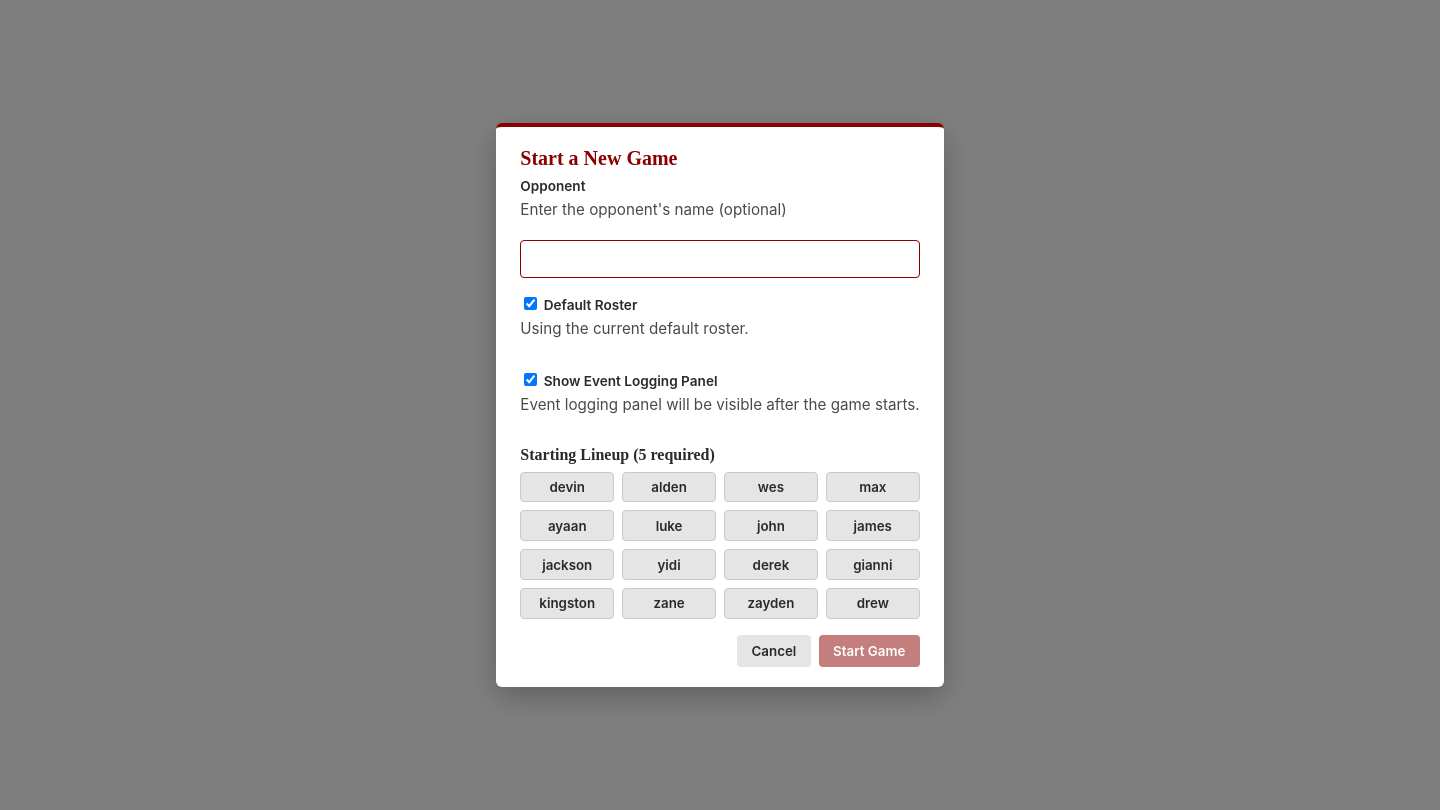
NewGameModal (v2) › unselected player buttons become disabled once 5 are selected
Step 1. Click the button "jackson" → click(567, 565), box x1=520 y1=549 x2=614 y2=580
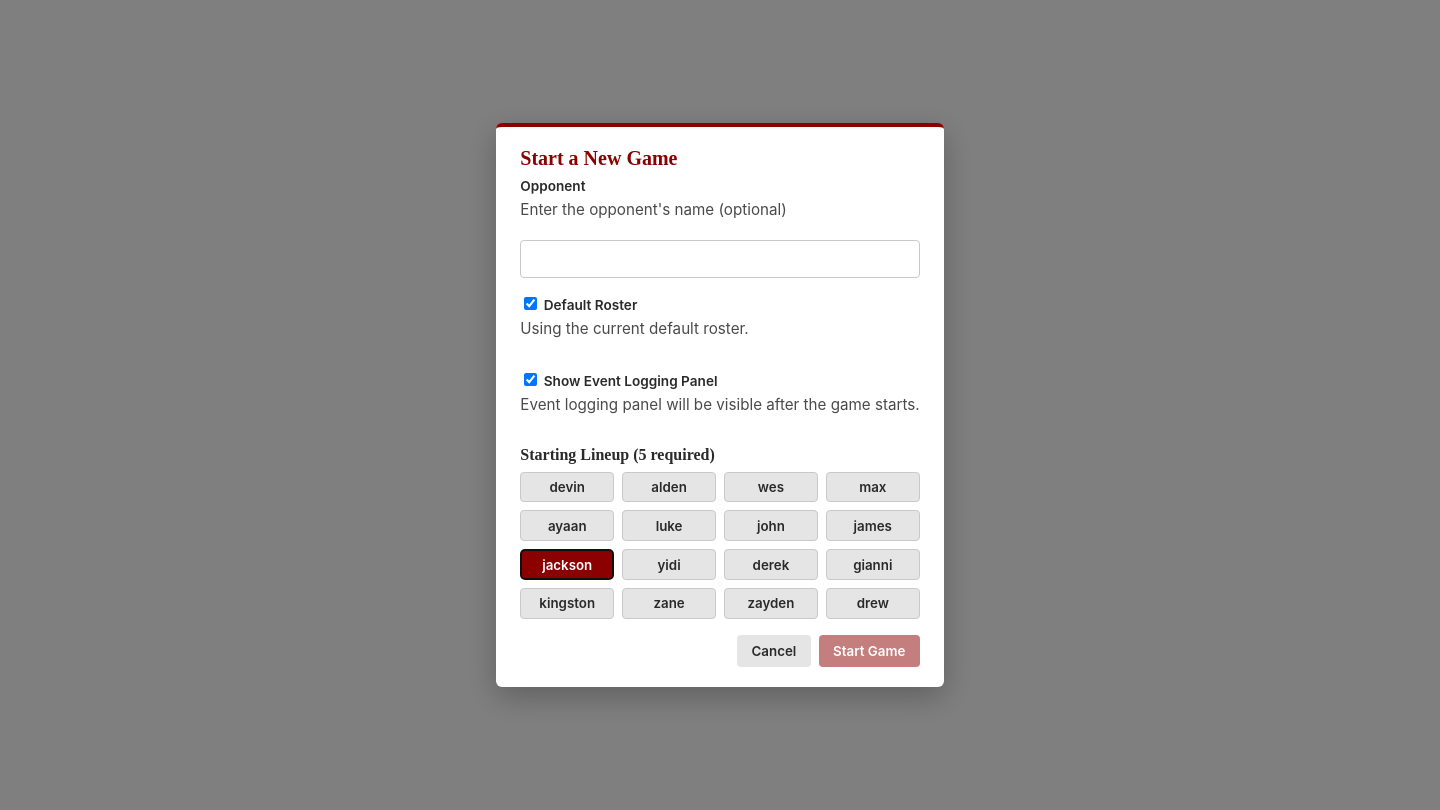
Step 2. Click the button "ayaan" → click(567, 526), box x1=520 y1=510 x2=614 y2=541
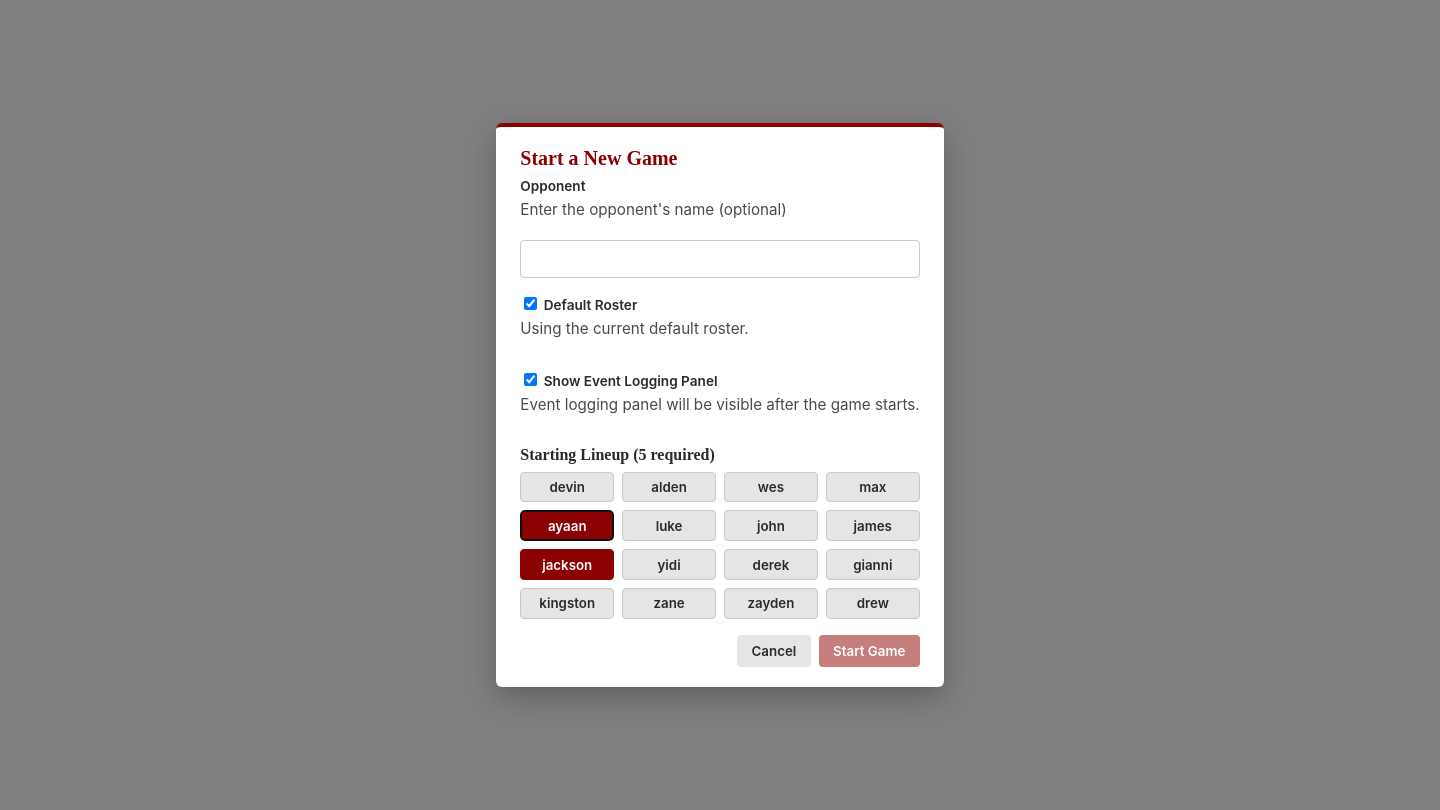
Step 3. Click the button "wes" → click(771, 487), box x1=724 y1=472 x2=818 y2=502
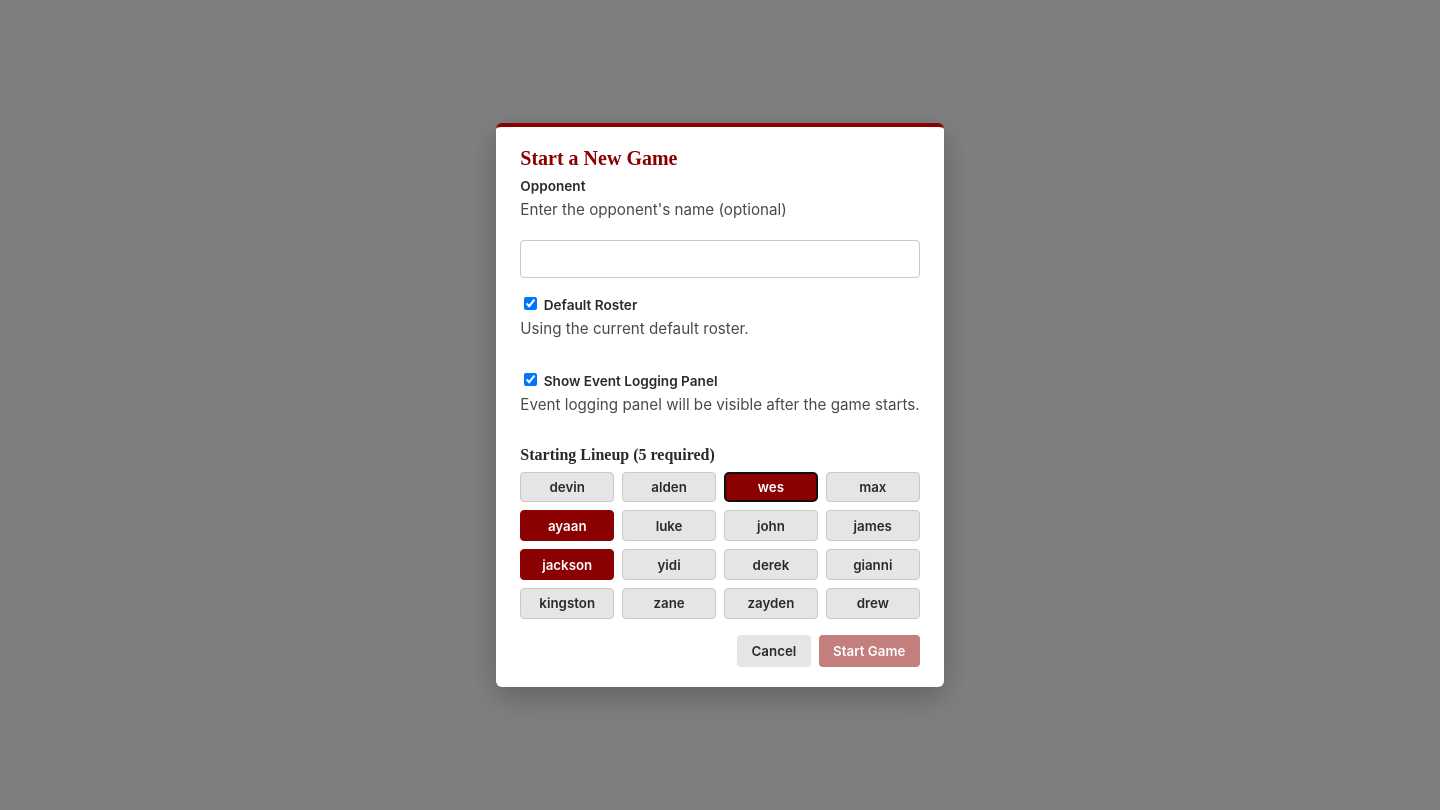
Step 4. Click the button "devin" → click(567, 487), box x1=520 y1=472 x2=614 y2=502
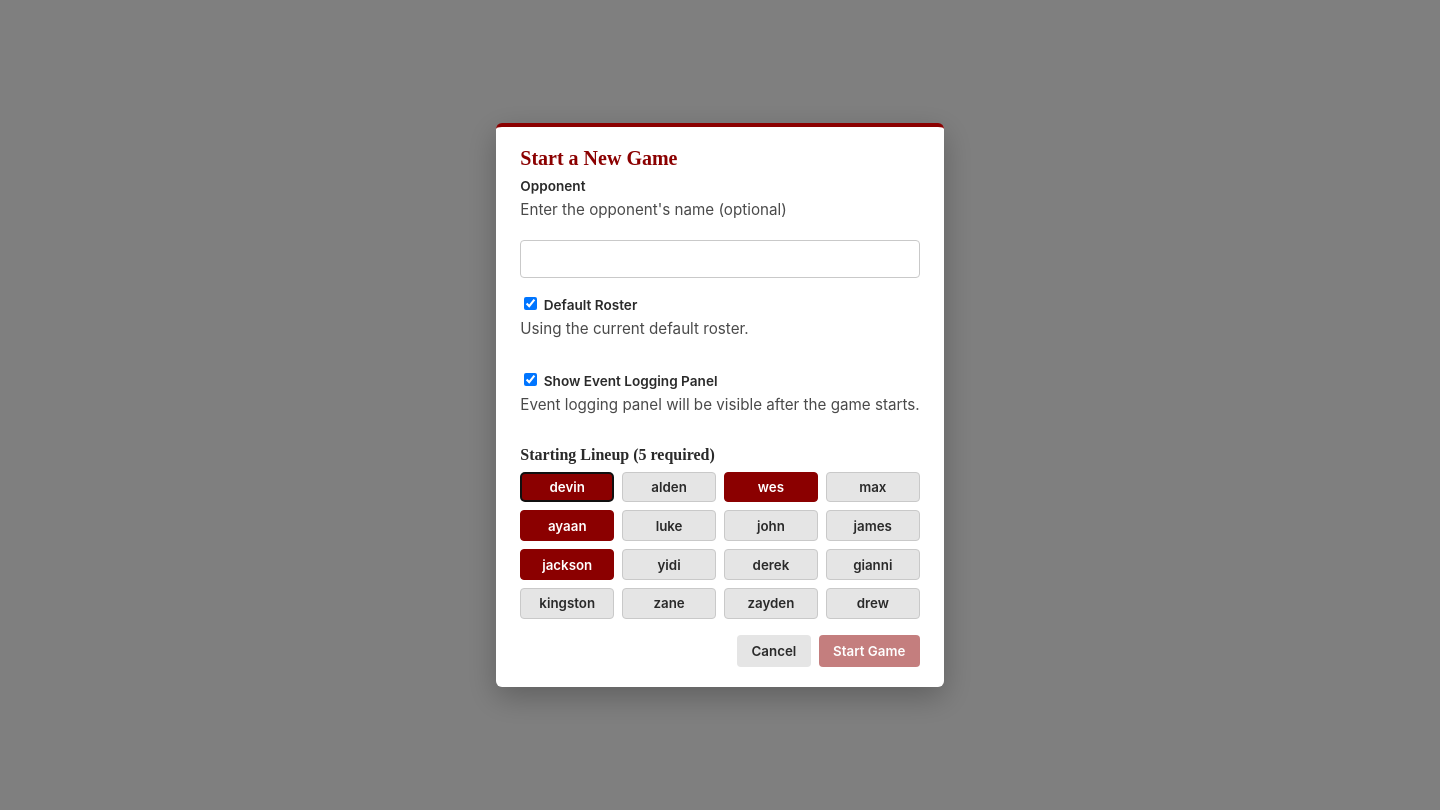
Step 5. Click the button "james" → click(873, 526), box x1=826 y1=510 x2=920 y2=541
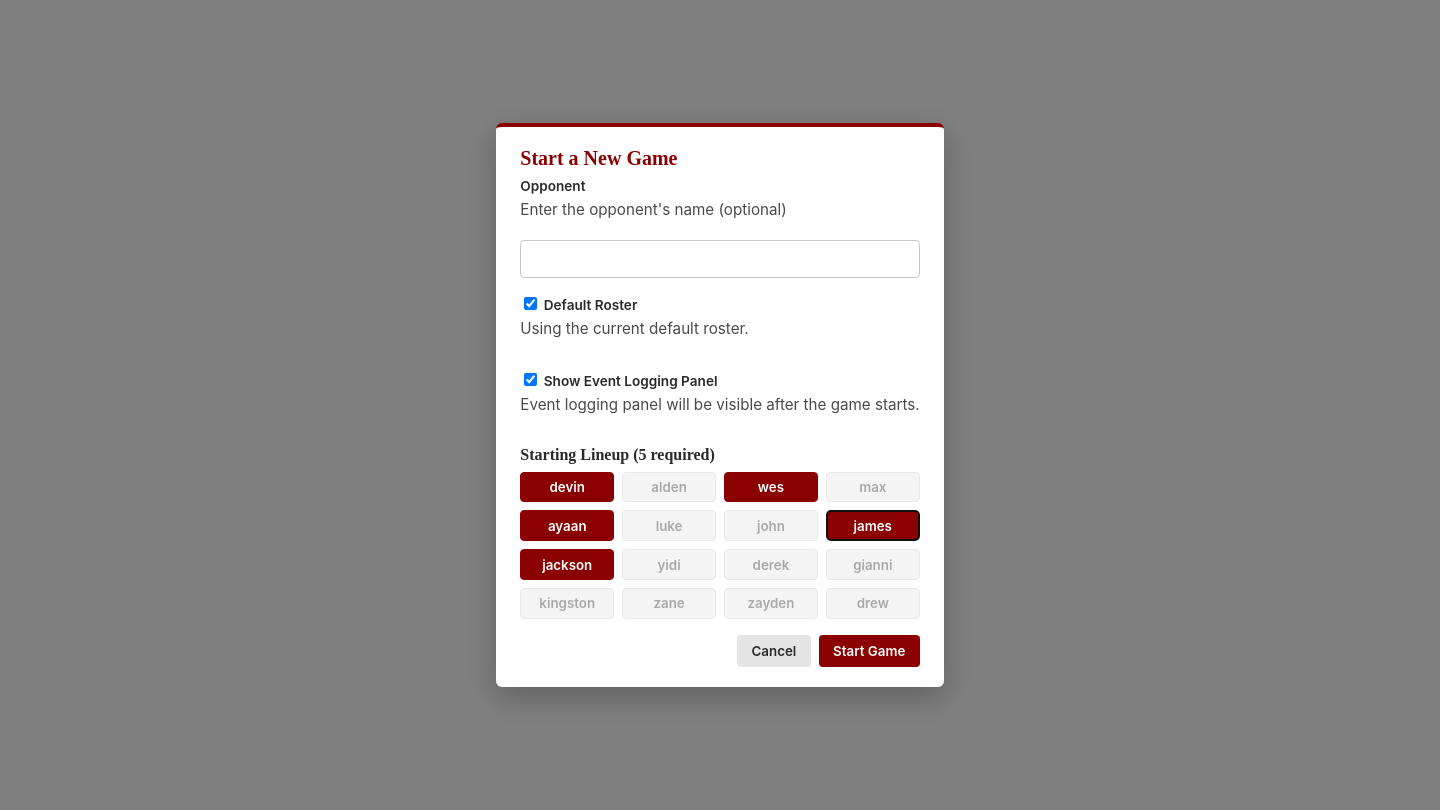
Check: the button "jackson" is enabled, box x1=520 y1=549 x2=614 y2=580
Check: the button "drew" is disabled, box x1=826 y1=588 x2=920 y2=619
